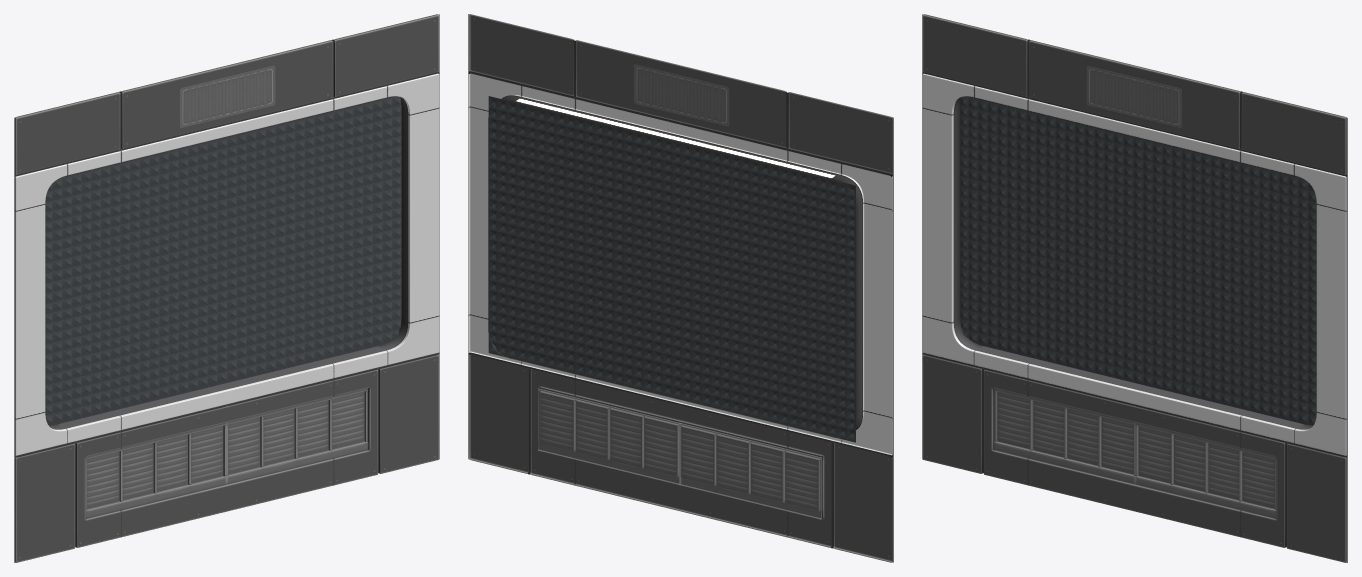
File: MWall12-350x350-1.FBX
3 views of the same model, side by side, from view 1: azimuth 30°, elevation 25°; view 2: azimuth 150°, elevation 25°; view 3: azimuth 330°, elevation 25° (orthographic).
Visible parts, largest first — view 1: MWall12-350x350-1; view 2: MWall12-350x350-1; view 3: MWall12-350x350-1.
Boxes of the visible parts, x1,y1,x2,y2 form: MWall12-350x350-1: (14, 14, 439, 562); MWall12-350x350-1: (468, 14, 893, 562); MWall12-350x350-1: (922, 14, 1347, 562).
Size of what is drawn, in the model's own units: 3.5 by 3.5 by 0.1422.
